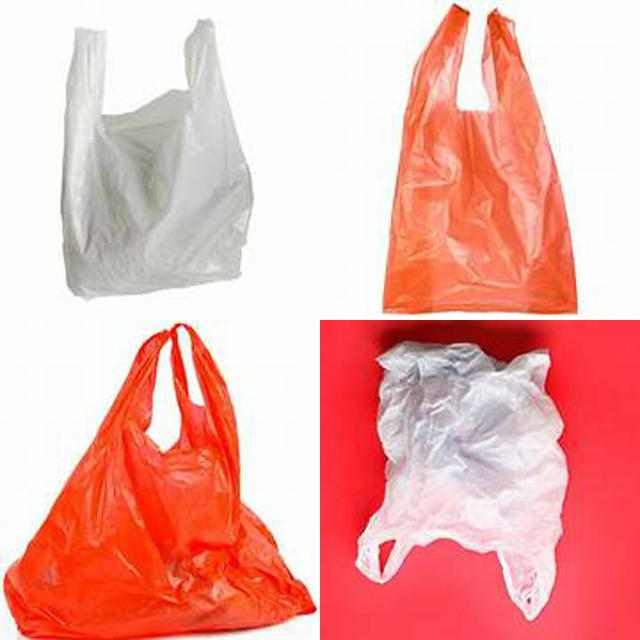Single-layer Plastic: (4, 325, 314, 640), (356, 341, 569, 620), (384, 5, 576, 314), (61, 20, 252, 298)
